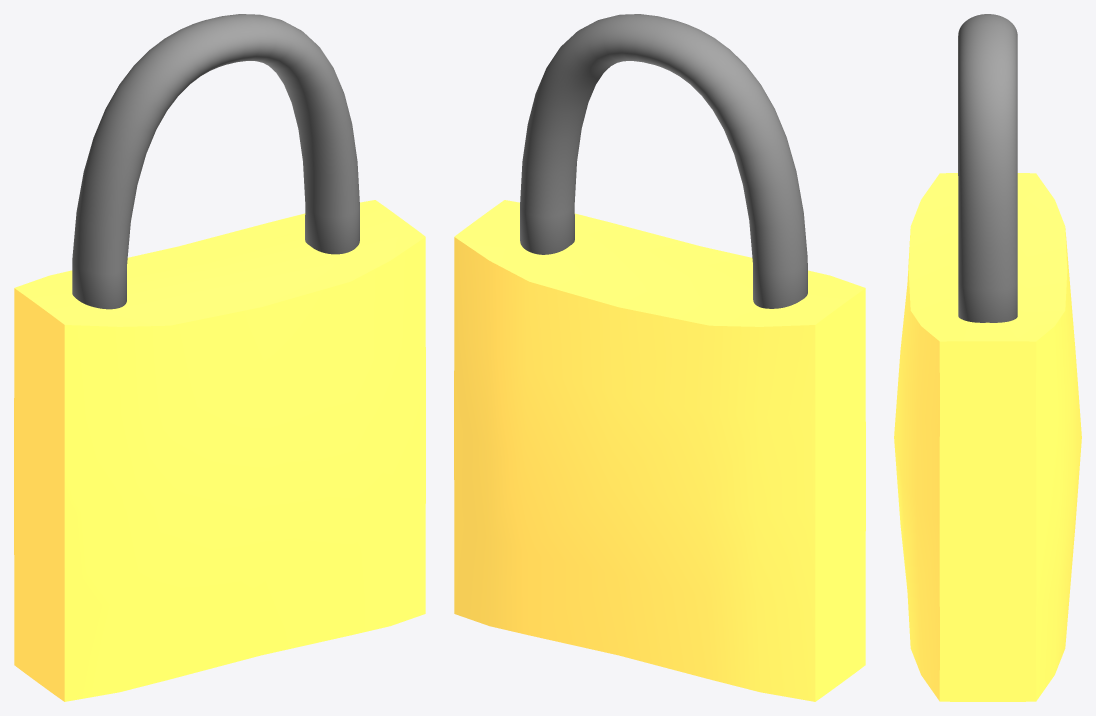
File: padlock.fbx
3 renders of one model, left to right at view 1: azimuth 30°, elevation 25°; view 2: azimuth 150°, elevation 25°; view 3: azimuth 270°, elevation 25°, orthographic. The views are drawn at different scales.
Visible parts, largest first — view 1: Cube, BezierCurve; view 2: Cube, BezierCurve; view 3: Cube, BezierCurve.
Part boxes in pixels (<box>): Cube: <box>14,200,425,701</box>; BezierCurve: <box>72,14,359,309</box>; Cube: <box>454,200,865,701</box>; BezierCurve: <box>520,14,807,308</box>; Cube: <box>894,173,1081,701</box>; BezierCurve: <box>958,14,1017,322</box>.
Bounding box in the file's own units: 2 × 3.27 × 0.9435.
